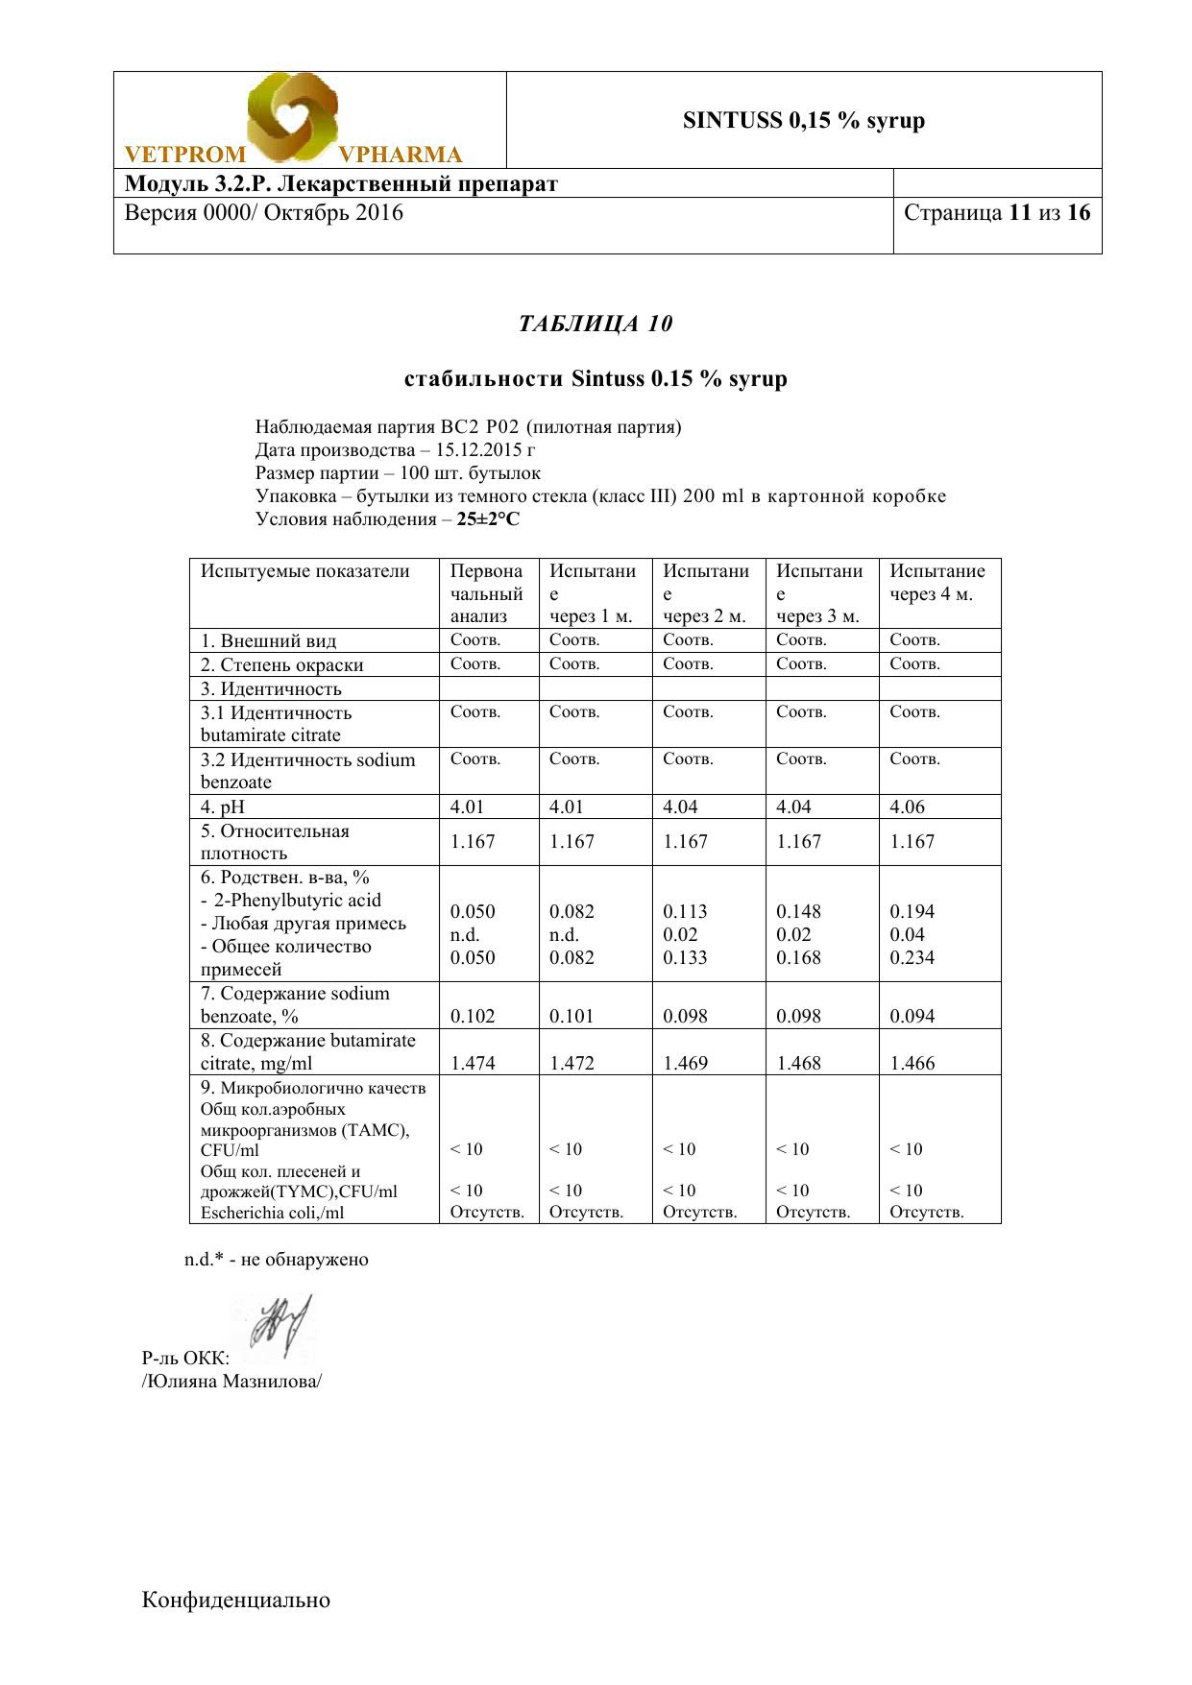merged_cells: (187, 557, 1002, 1224), (112, 70, 1103, 255)
